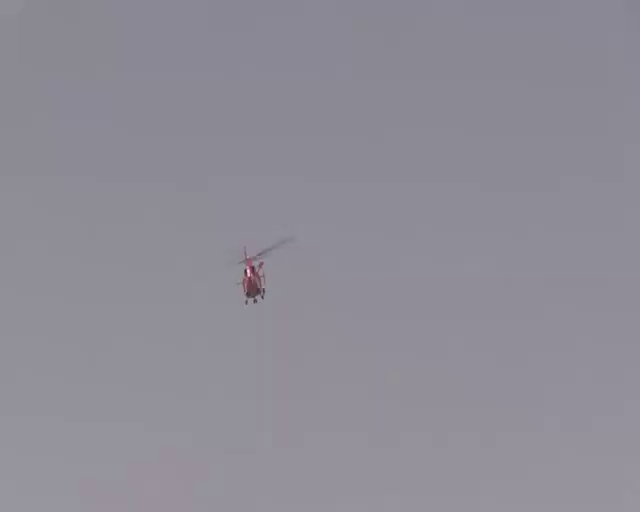HELICOPTER: (235, 233, 297, 306)
